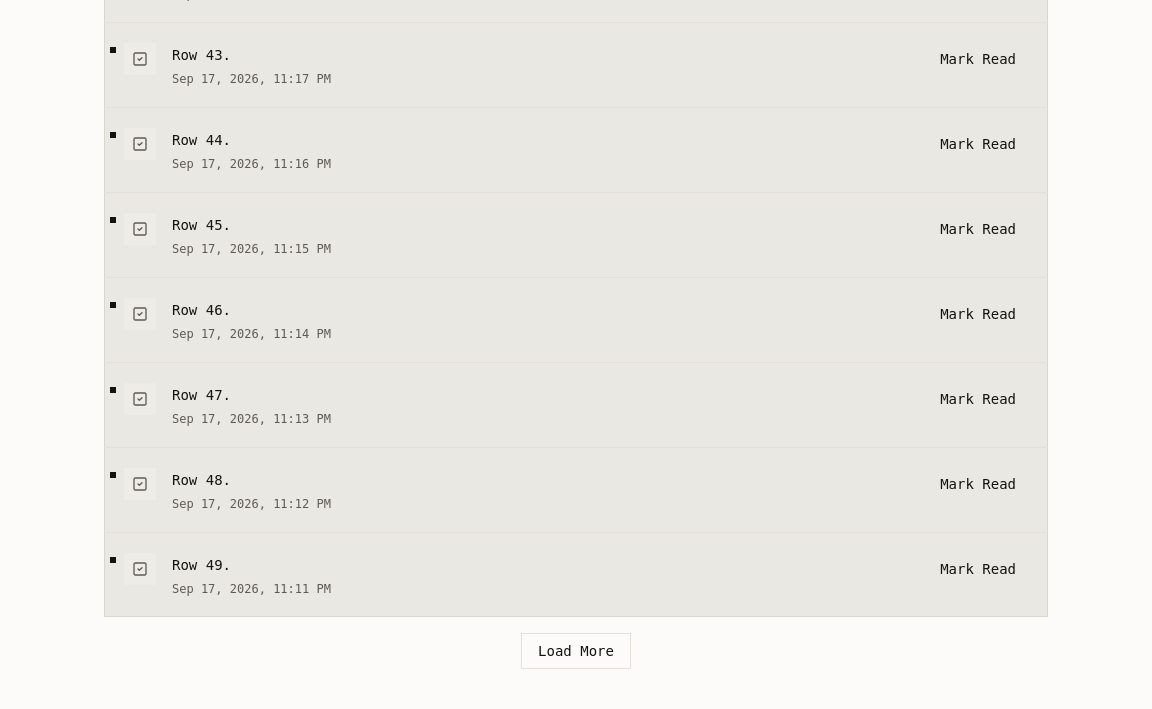
Test case: NotificationsPage › polling › keeps rows paged in with Load More when the feed polls
(page scrolled)
What coordinates should you click on to do the following:
click the button "Load More"
I would click on:
 (576, 651)
Its box is [521,633,631,669].
Wait 2000 ms
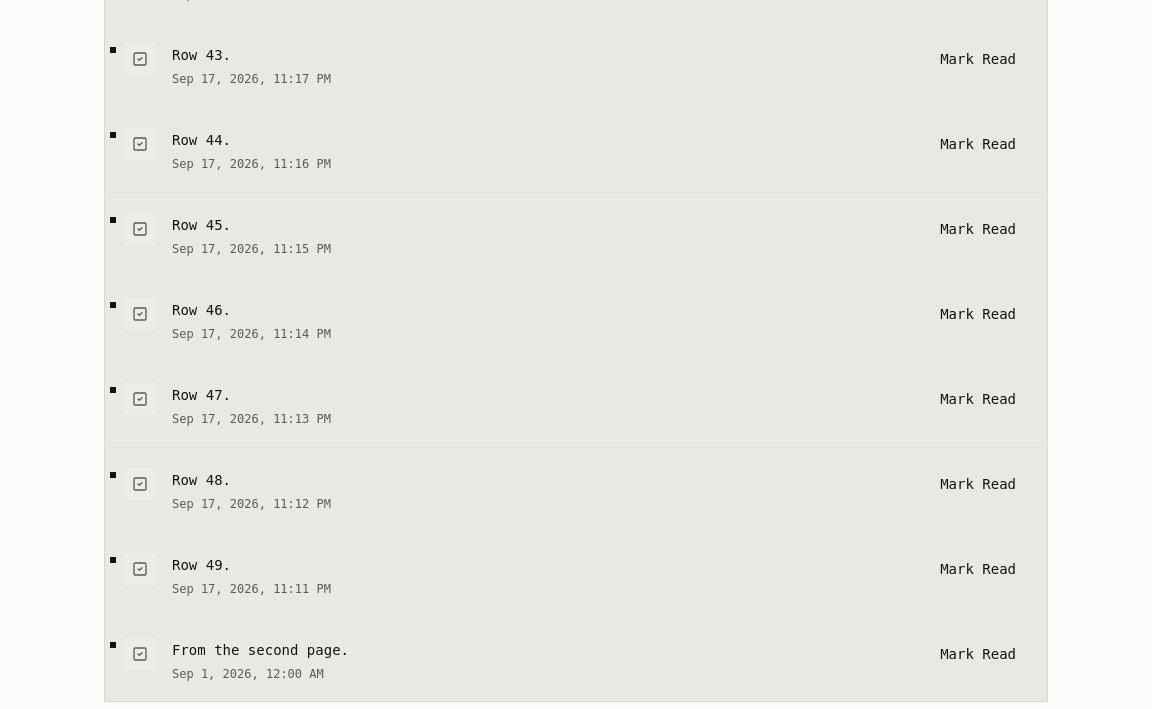
Check: the link "From the second page." is shown, box [172,642,349,658]
